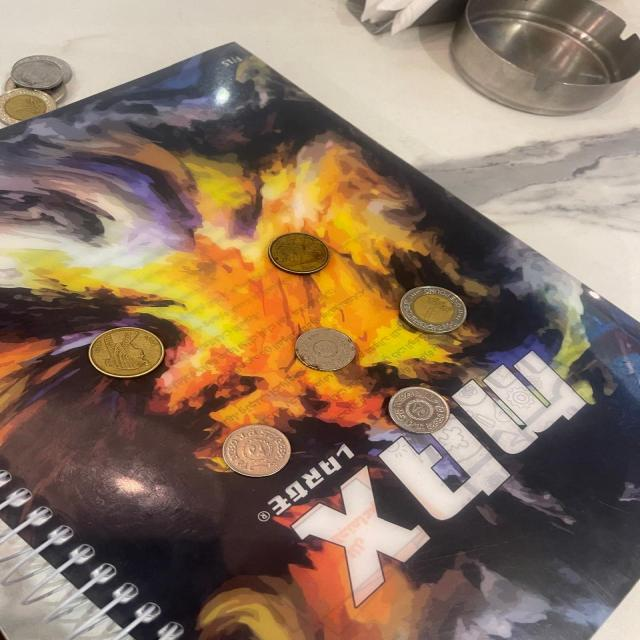Half Pound: (89, 326, 167, 382), (269, 227, 334, 277)
One Pound: (400, 284, 472, 334), (0, 84, 54, 128)
quarter pound: (220, 420, 295, 481), (380, 382, 454, 436), (285, 328, 361, 373), (16, 59, 62, 86)
